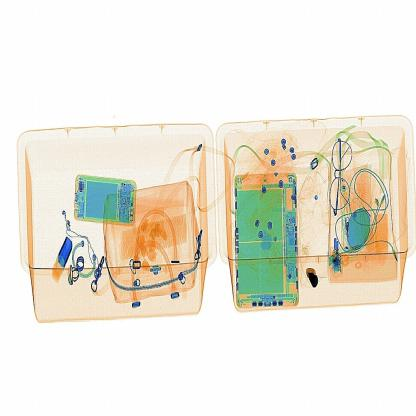wrench: (306, 262, 321, 293)
